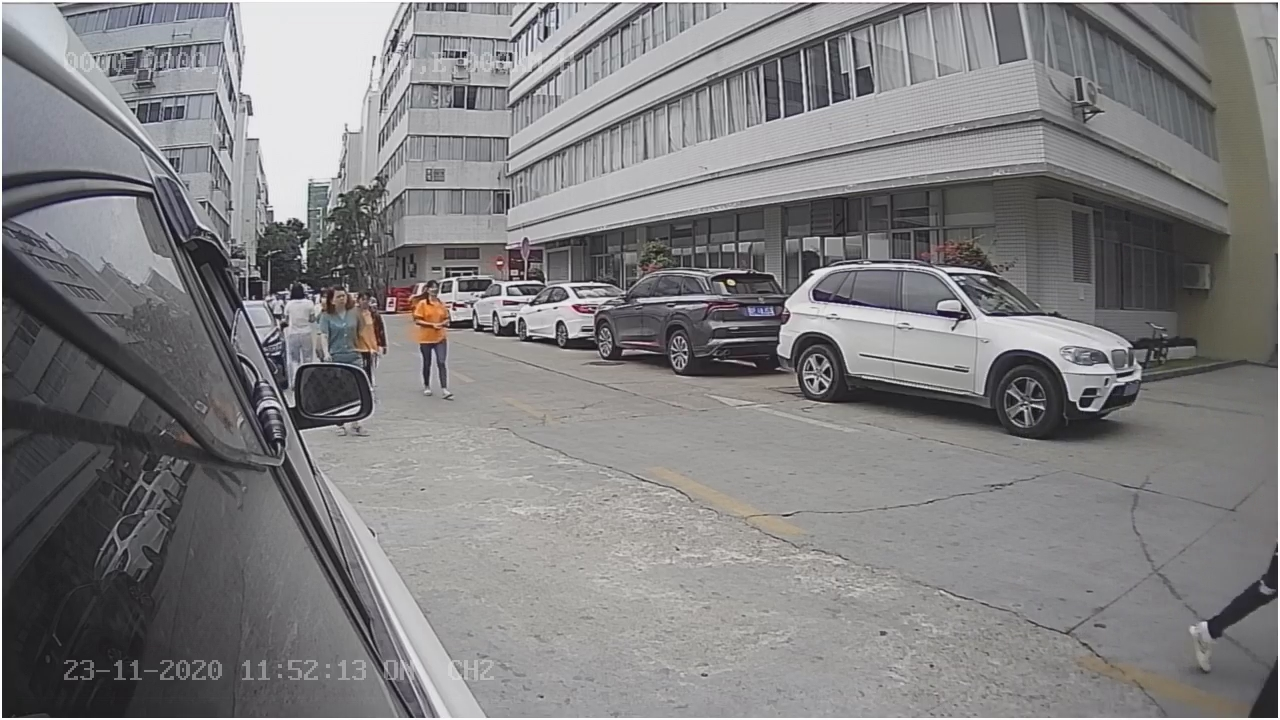person: (411, 274, 462, 404)
